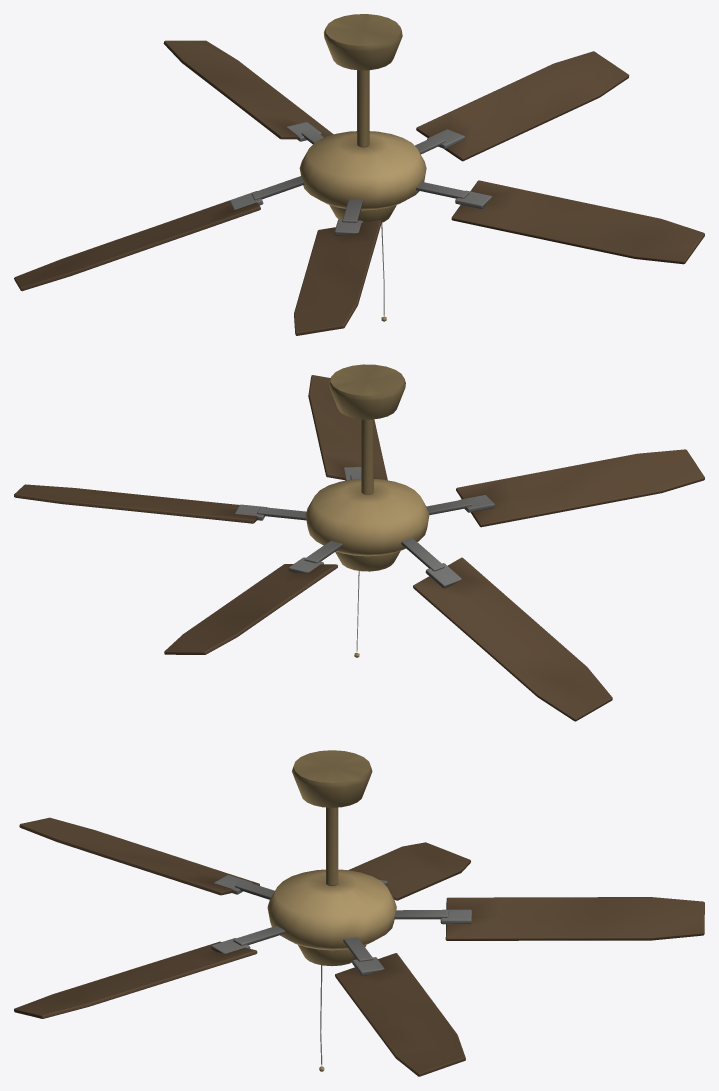
File: ceiling_fan.glb
3 views of the same model, one above another, from view 1: azimuth 30°, elevation 25°; view 2: azimuth 150°, elevation 25°; view 3: azimuth 270°, elevation 25° (orthographic). The views are drawn at different scales.
Visible parts, largest first — view 1: ceiling_fan; view 2: ceiling_fan; view 3: ceiling_fan.
Boxes of the visible parts, bbox=[...] form: ceiling_fan: bbox=[14, 14, 704, 335]; ceiling_fan: bbox=[14, 364, 704, 721]; ceiling_fan: bbox=[14, 750, 704, 1076].
Bounding box in the file's own units: 1.38 × 0.634 × 1.33.
